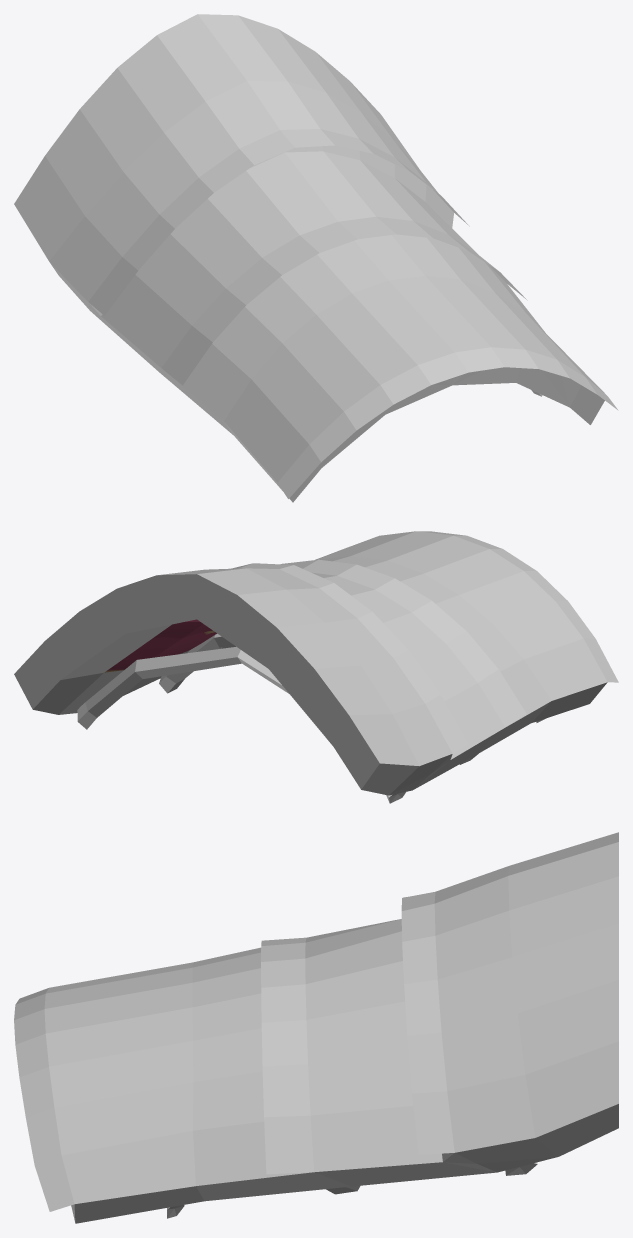
The model's file is SM_Bld_Roof_Thatch_Preset_Overhang_01.fbx.
3 renders of one model, top to bottom at view 1: azimuth 30°, elevation 25°; view 2: azimuth 150°, elevation 25°; view 3: azimuth 270°, elevation 25°, orthographic. The views are drawn at different scales.
Visible parts, largest first — view 1: SM_Bld_Roof_Thatch_Preset_Overhang_01; view 2: SM_Bld_Roof_Thatch_Preset_Overhang_01; view 3: SM_Bld_Roof_Thatch_Preset_Overhang_01.
Boxes of the visible parts, x1=… form: SM_Bld_Roof_Thatch_Preset_Overhang_01: x1=14, y1=14, x2=618, y2=502; SM_Bld_Roof_Thatch_Preset_Overhang_01: x1=14, y1=531, x2=618, y2=803; SM_Bld_Roof_Thatch_Preset_Overhang_01: x1=14, y1=832, x2=618, y2=1223.
Size of the model in its own units: 474 by 333 by 599.
